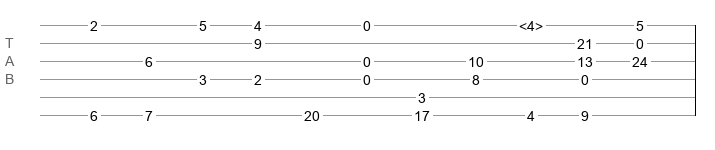0: (363, 18, 371, 28), (363, 54, 371, 64), (363, 72, 371, 82), (581, 72, 589, 82), (636, 36, 644, 46)
10: (468, 54, 484, 64)
13: (577, 54, 593, 64)
17: (414, 108, 430, 118)
2: (90, 18, 98, 28), (254, 72, 262, 82)
20: (304, 108, 320, 118)
21: (577, 36, 593, 46)
24: (632, 54, 648, 64)
3: (199, 72, 207, 82), (418, 90, 426, 100)
4: (254, 18, 262, 28), (527, 108, 535, 118)
5: (199, 18, 207, 28), (636, 18, 644, 28)
6: (90, 108, 98, 118), (145, 54, 153, 64)
7: (145, 108, 153, 118)
8: (472, 72, 480, 82)
9: (254, 36, 262, 46), (581, 108, 589, 118)
harmonic: (519, 18, 543, 28)
